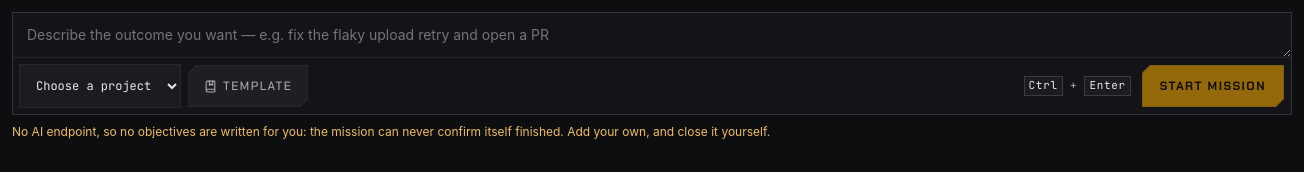
Test case: a project is REQUIRED, and the form says why before it refuses
Type "x" into the text box with test id "new-mission-instruction". click: point(652, 35)
box: [13, 13, 1291, 57]
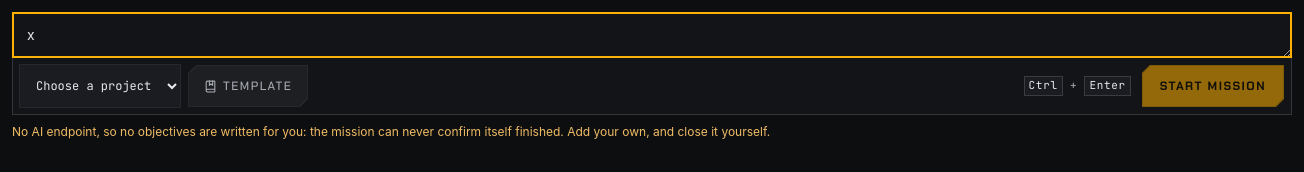
Expected: the button with test id "new-mission-start" is disabled, [1141, 64, 1285, 108]
Select "battlelab" in the dropdown with test id "new-mission-project". click: point(100, 86)
box: [19, 64, 181, 108]
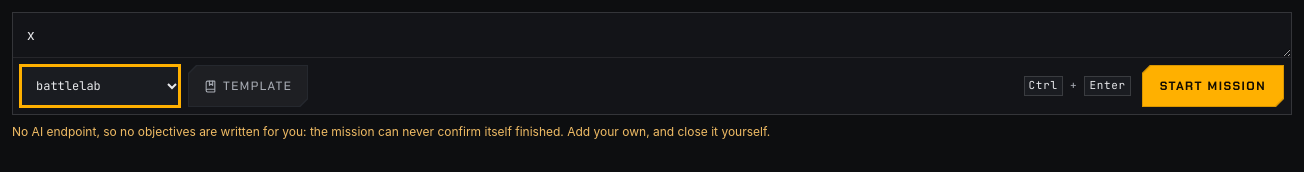
Expected: the button with test id "new-mission-start" is enabled, [1141, 64, 1285, 108]
